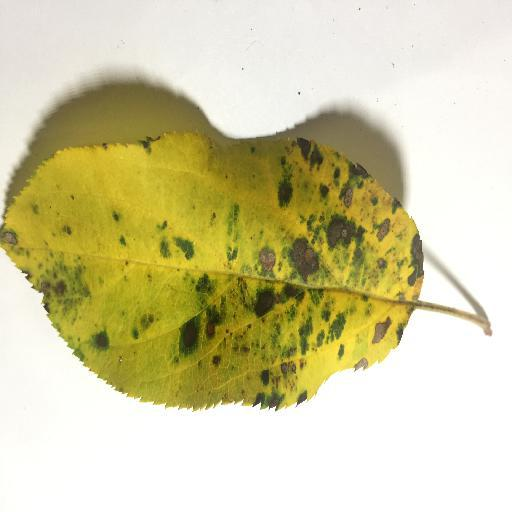Brown_Spot: (37, 267, 67, 305), (268, 362, 305, 390), (292, 241, 316, 277), (410, 236, 427, 279), (373, 323, 394, 345), (201, 316, 220, 339), (259, 249, 275, 273), (5, 227, 18, 249), (344, 185, 356, 208), (376, 220, 390, 239), (355, 360, 364, 370)
